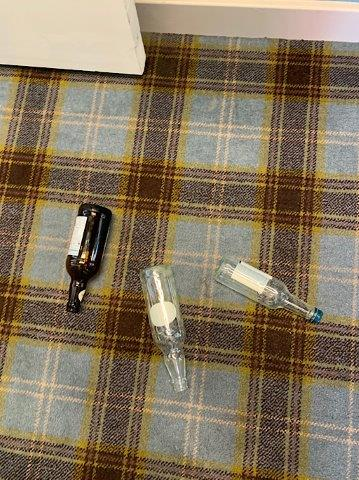botolkaca: (214, 255, 323, 323), (140, 267, 187, 389), (66, 204, 111, 311)
